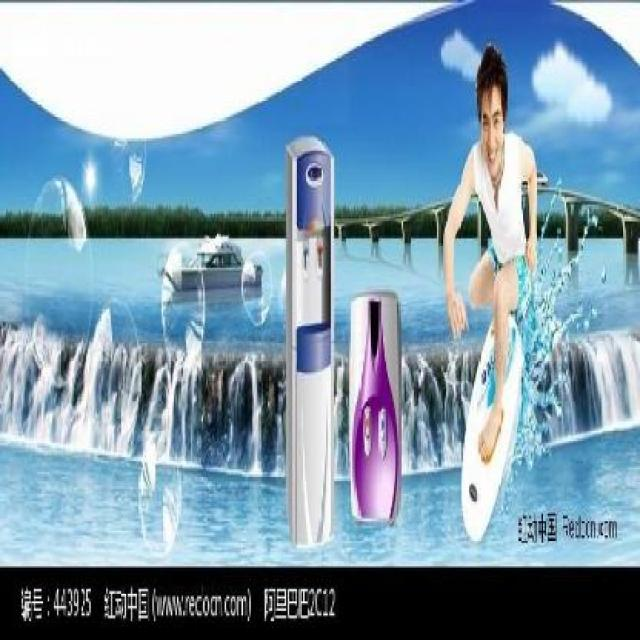cooler: (284, 133, 336, 554), (348, 285, 404, 529)
